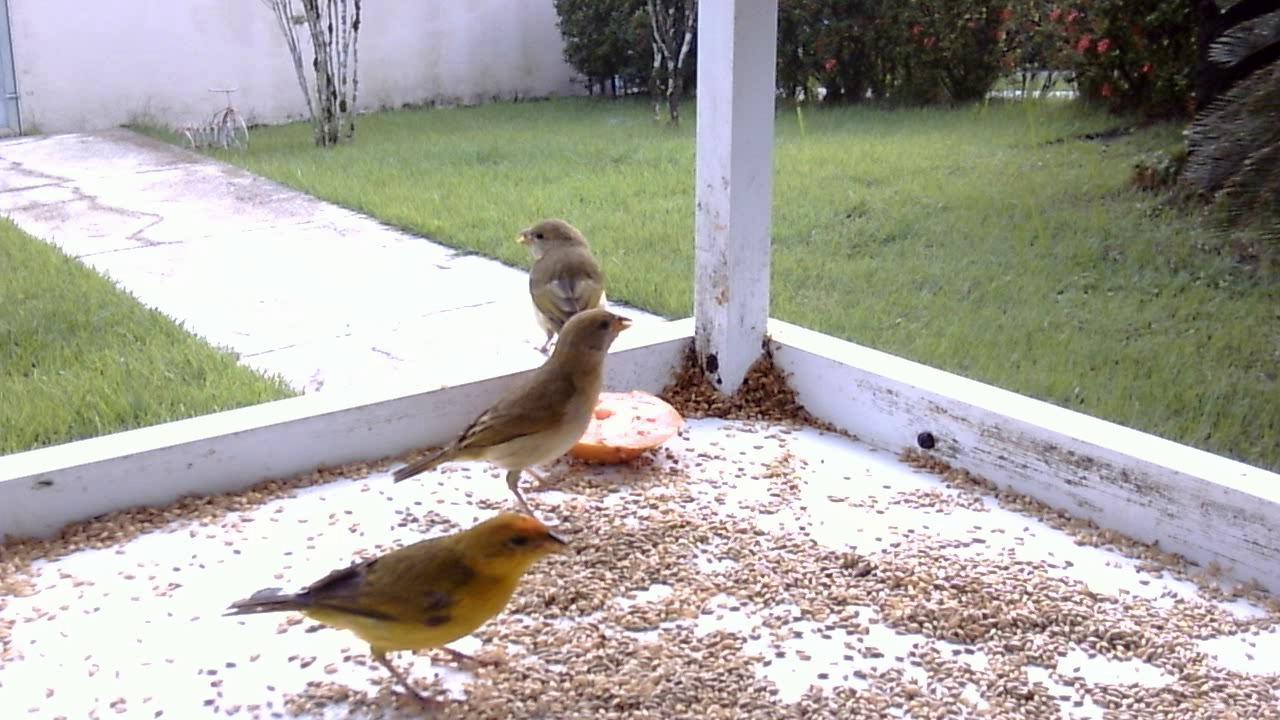canario_do_amazonas: (215, 504, 575, 705), (387, 304, 636, 534), (504, 214, 636, 357)
